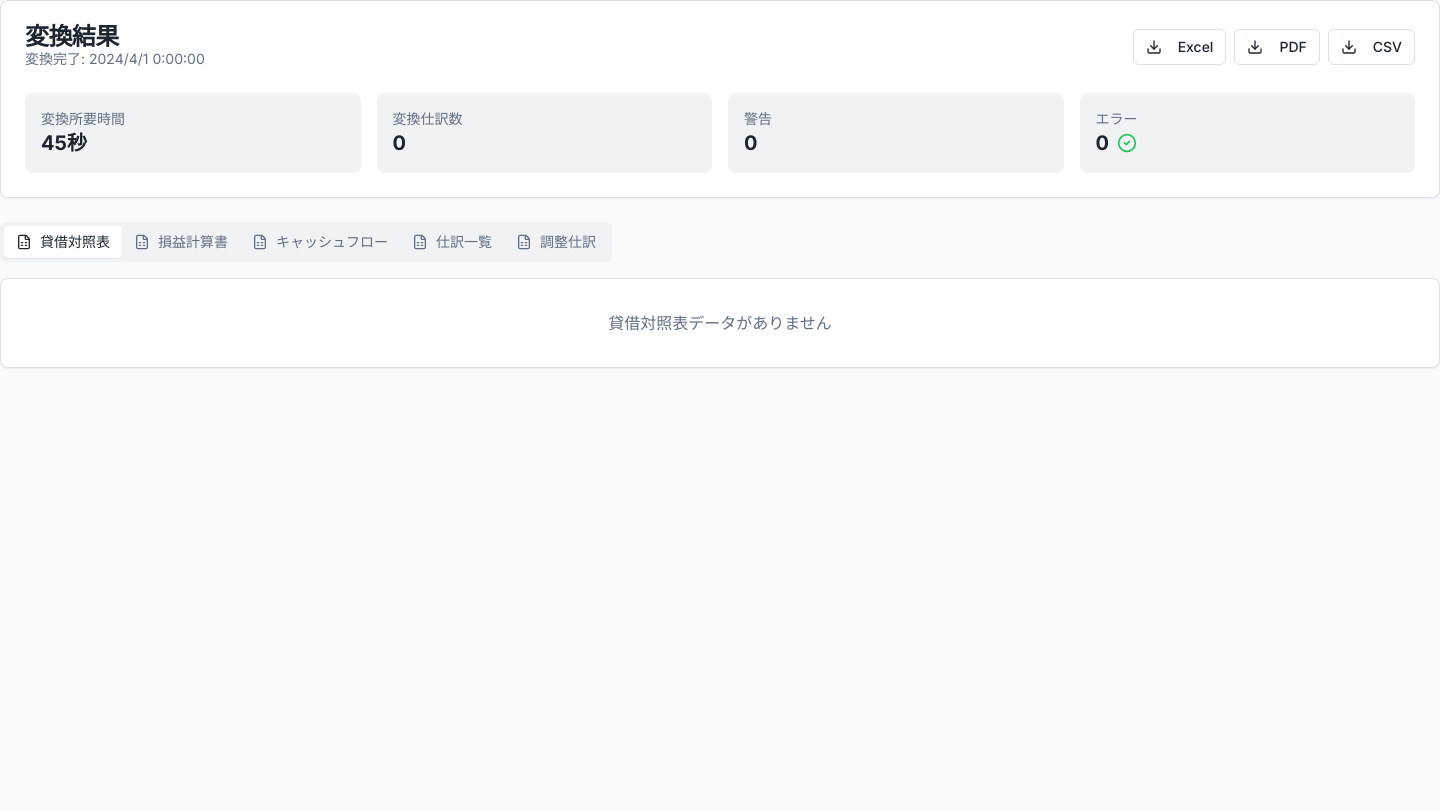
Scenario: conversion-result-viewer — adjusting entries tab › renders each adjustment type, description and approved badge
The width and height of the screenshot is (1440, 810).
Press the mouse on the tab "調整仕訳" at (556, 242), box [504,226,608,258]
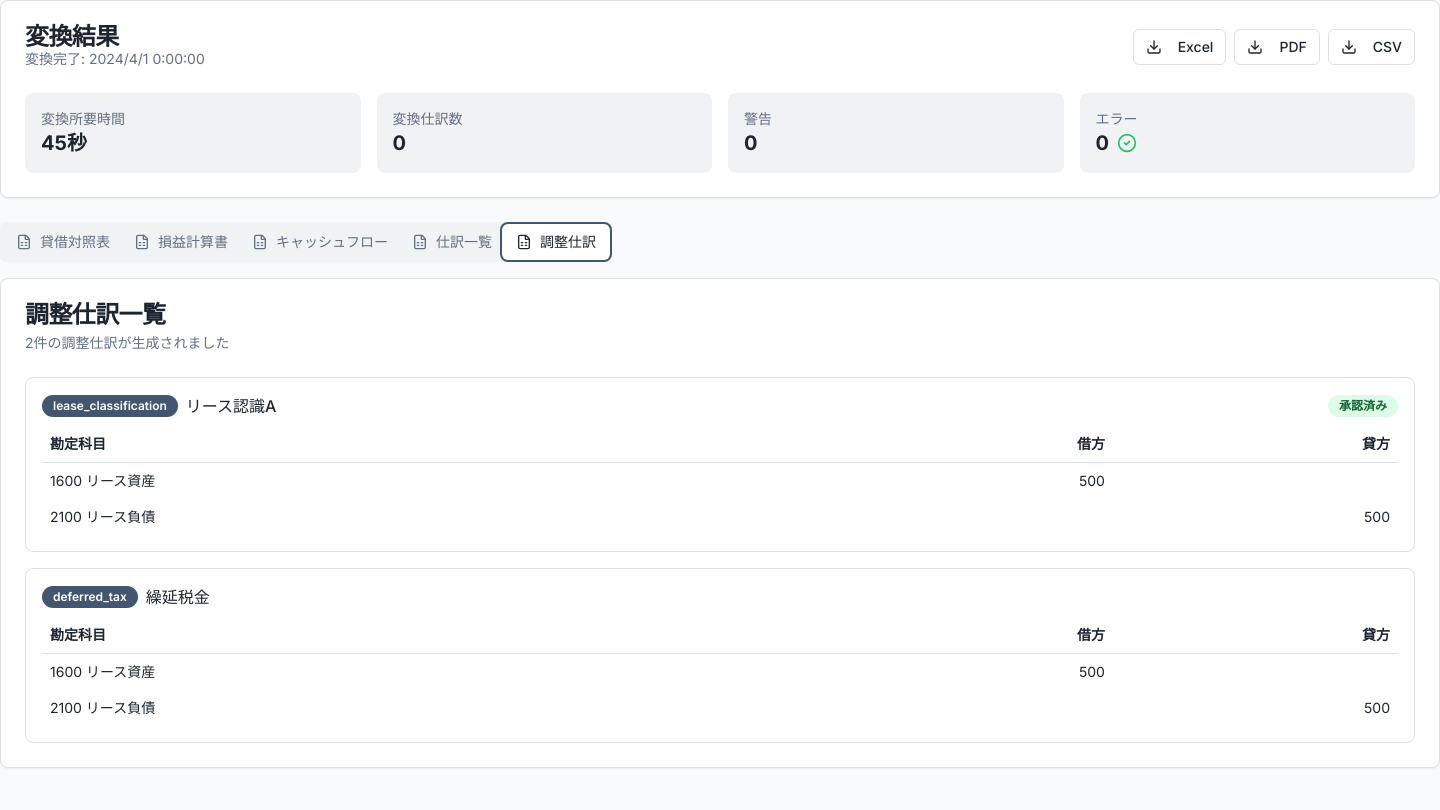
expect the text "2件の調整仕訳が生成されました" is shown: met, box [25,334,230,351]
expect the text "lease_classification" is shown: met, box [42,395,178,417]
expect the text "リース認識A" is shown: met, box [186,394,276,418]
